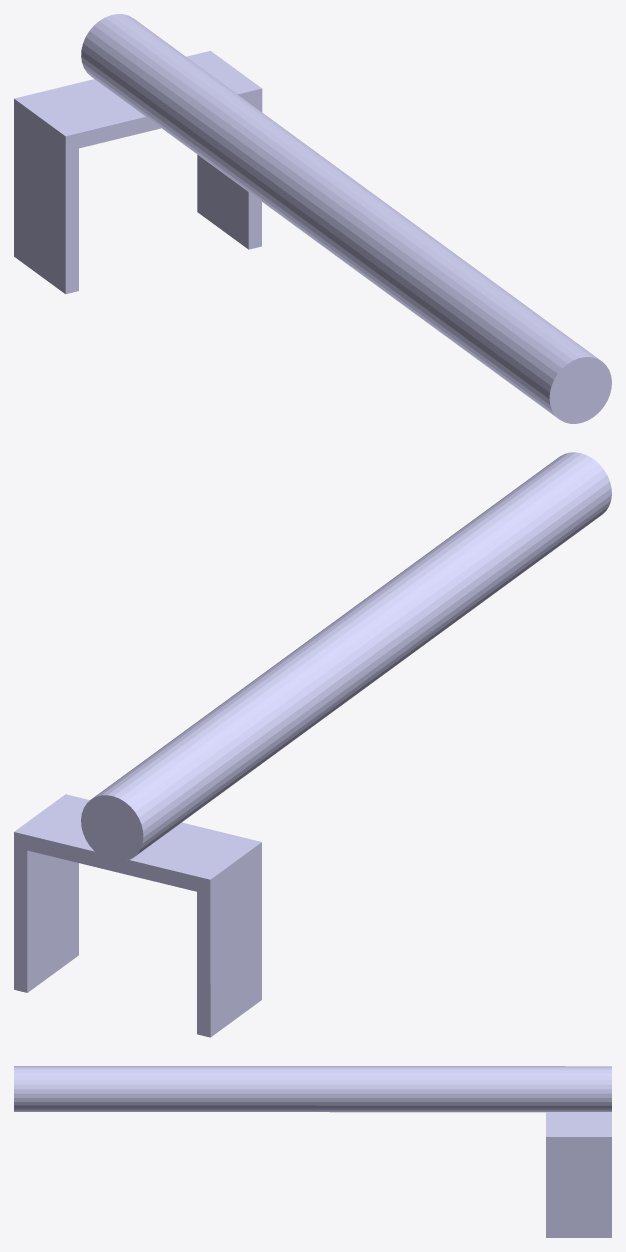
The model's file is dbAlpha_URDF_dbAlpha_L2_link3__73__.dae.
The picture shows the model from 3 angles, top to bottom: view 1: azimuth 30°, elevation 25°; view 2: azimuth 150°, elevation 25°; view 3: azimuth 270°, elevation 25°; orthographic projection. The views are drawn at different scales.
Parts seen in each view (by area): view 1: Node_0x7f7afcecbdb0 (×4); view 2: Node_0x7f7afcecbdb0 (×4); view 3: Node_0x7f7afcecbdb0 (×3).
Part boxes in pixels (x1=…): Node_0x7f7afcecbdb0 (×4): x1=14, y1=14, x2=611, y2=423; Node_0x7f7afcecbdb0 (×4): x1=14, y1=452, x2=611, y2=1037; Node_0x7f7afcecbdb0 (×3): x1=14, y1=1066, x2=611, y2=1237.
Bounding box in the file's own units: 0.044 × 0.0466 × 0.1817.
